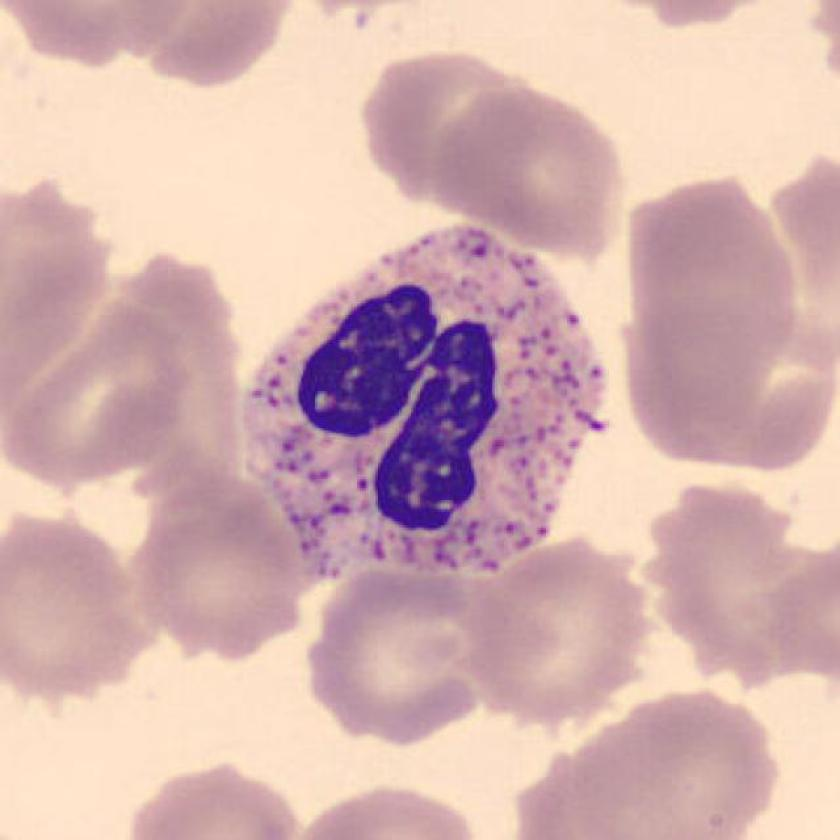neutrophil: (247, 222, 604, 579)
